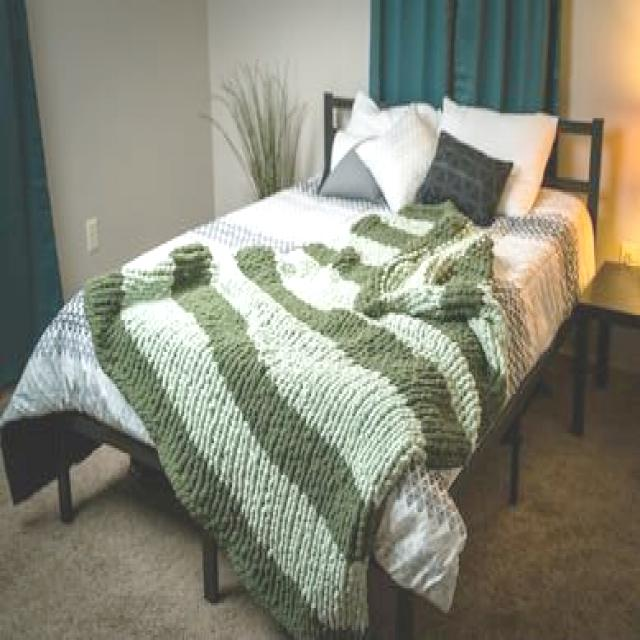bed: (50, 100, 602, 528)
